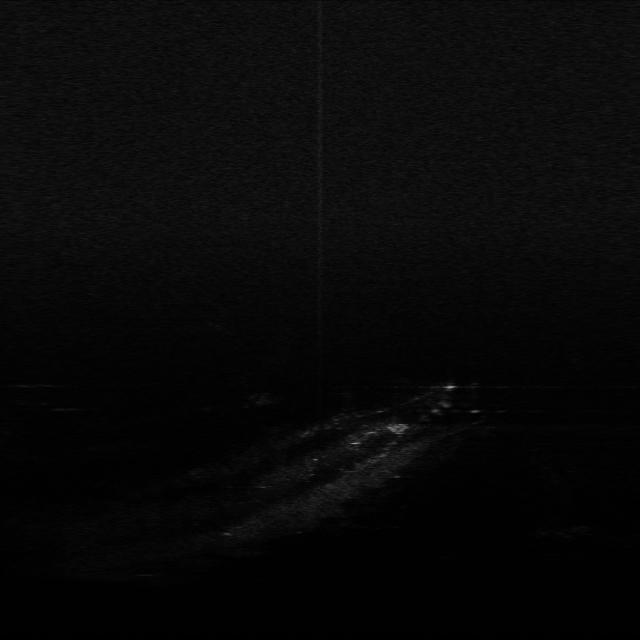rov: (386, 418, 412, 438)
